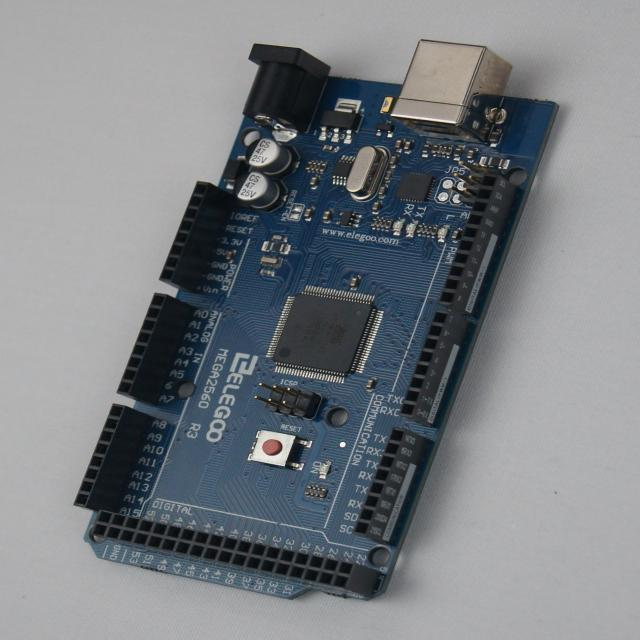Arduino Mega 2560 -Blue-: (75, 42, 558, 598)
